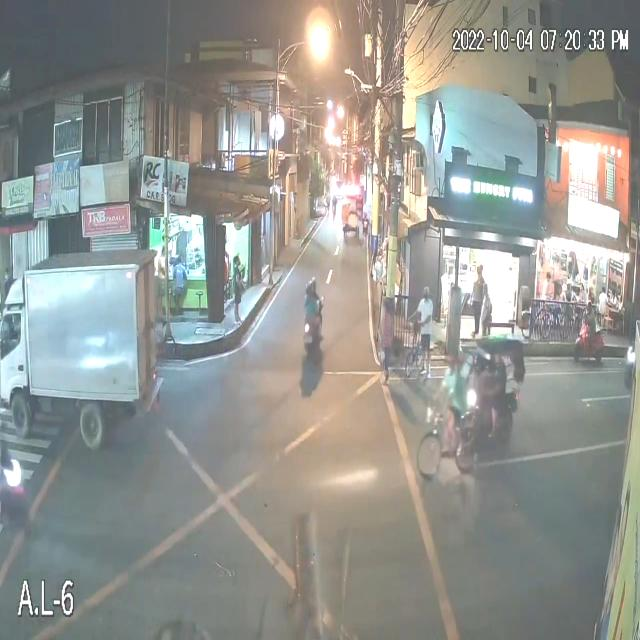Full-Faced: (304, 279, 315, 294), (312, 267, 319, 287)
